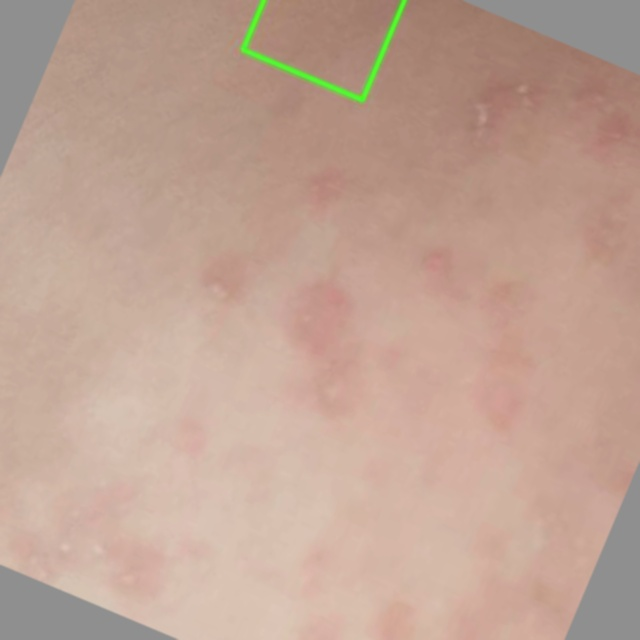Tinea Corporis: (242, 0, 404, 100)
